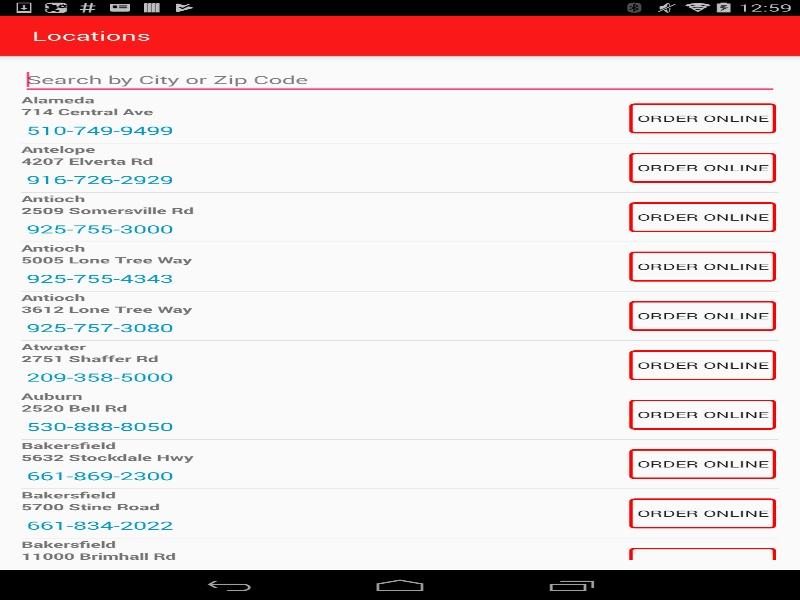Button: (629, 103, 776, 133), (629, 152, 776, 182), (629, 202, 776, 232), (629, 251, 776, 281), (629, 300, 776, 330), (629, 350, 776, 380), (629, 399, 776, 429), (629, 449, 776, 479), (629, 498, 776, 528), (629, 547, 776, 577), (21, 117, 178, 142), (21, 167, 178, 192), (21, 216, 178, 241), (21, 265, 178, 290), (21, 315, 178, 340), (21, 364, 178, 389), (21, 414, 178, 439), (21, 463, 178, 488), (21, 512, 178, 537)
Input: (21, 65, 778, 94)
